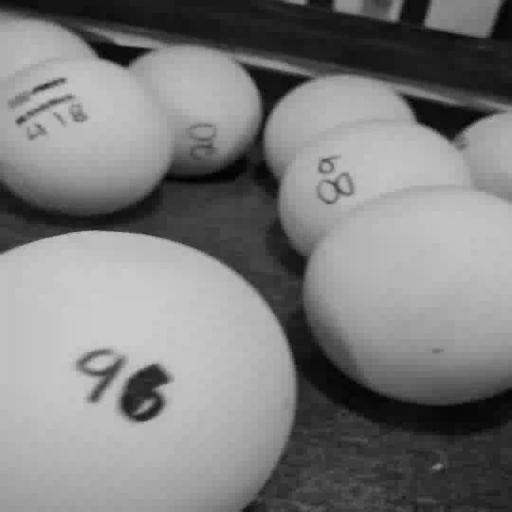fuel: (0, 231, 296, 511), (304, 186, 511, 405), (0, 58, 174, 216), (278, 121, 471, 257), (129, 45, 263, 176), (263, 74, 415, 180), (0, 16, 97, 83), (454, 111, 511, 201)
